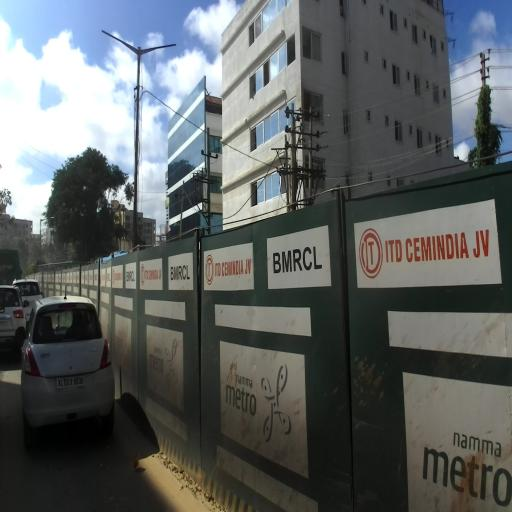street_light_0: (101, 29, 142, 61), (136, 44, 177, 61), (38, 216, 56, 223)
